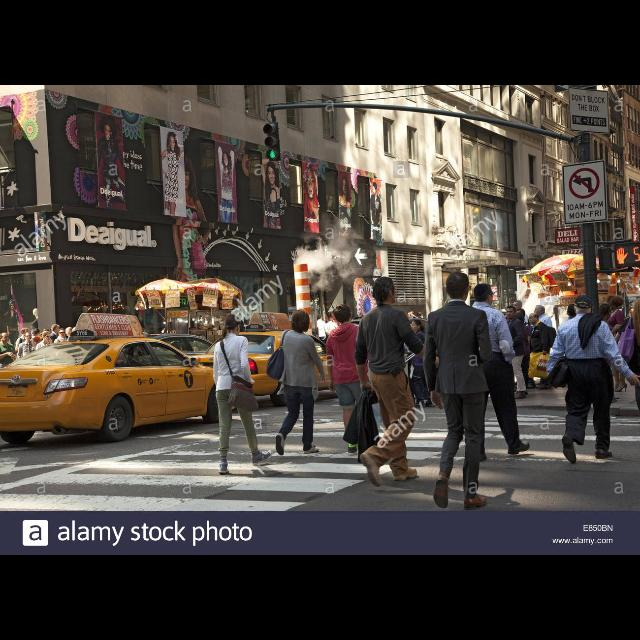head: (446, 272, 470, 302), (374, 278, 396, 306), (474, 284, 494, 306), (293, 310, 311, 332), (333, 305, 352, 325), (574, 297, 594, 315), (226, 315, 242, 337), (608, 296, 624, 312), (600, 304, 614, 318), (507, 306, 518, 320), (534, 305, 546, 317), (410, 320, 422, 332), (530, 314, 540, 326), (0, 333, 10, 343), (32, 329, 42, 339), (24, 332, 32, 342), (43, 332, 51, 342), (58, 329, 66, 339), (52, 324, 60, 334), (21, 329, 29, 337), (328, 316, 334, 322), (317, 316, 323, 320)
person: (420, 268, 498, 510), (351, 272, 437, 490), (461, 283, 534, 462), (210, 312, 276, 476), (264, 306, 328, 458), (327, 302, 378, 458), (592, 300, 624, 408), (406, 316, 436, 409), (528, 313, 560, 392), (502, 306, 528, 402), (604, 295, 628, 395), (532, 303, 556, 382), (17, 332, 38, 388), (1, 334, 18, 396), (36, 330, 56, 382), (13, 327, 33, 378), (47, 324, 61, 384), (54, 330, 68, 384), (314, 314, 330, 358), (28, 328, 42, 374), (324, 316, 340, 352)
